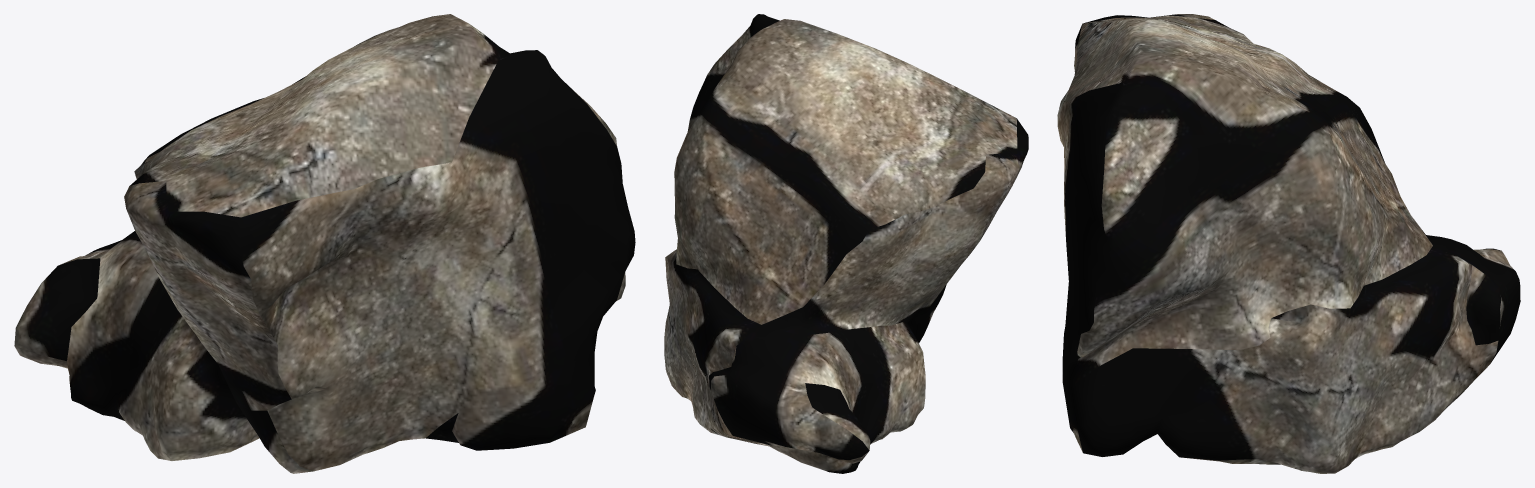
File: rock4.glb
The picture shows the model from 3 angles, left to right: view 1: azimuth 30°, elevation 25°; view 2: azimuth 150°, elevation 25°; view 3: azimuth 270°, elevation 25°; orthographic projection. The views are drawn at different scales.
Parts seen in each view (by area): view 1: Rock4; view 2: Rock4; view 3: Rock4.
Boxes of the visible parts, x1,y1,x2,y2 form: Rock4: (14, 14, 635, 473); Rock4: (664, 14, 1028, 473); Rock4: (1057, 14, 1520, 473).
Size of the model in its own units: 3.58 by 3.22 by 3.41.
Materials: 1 (1 with a texture image).
